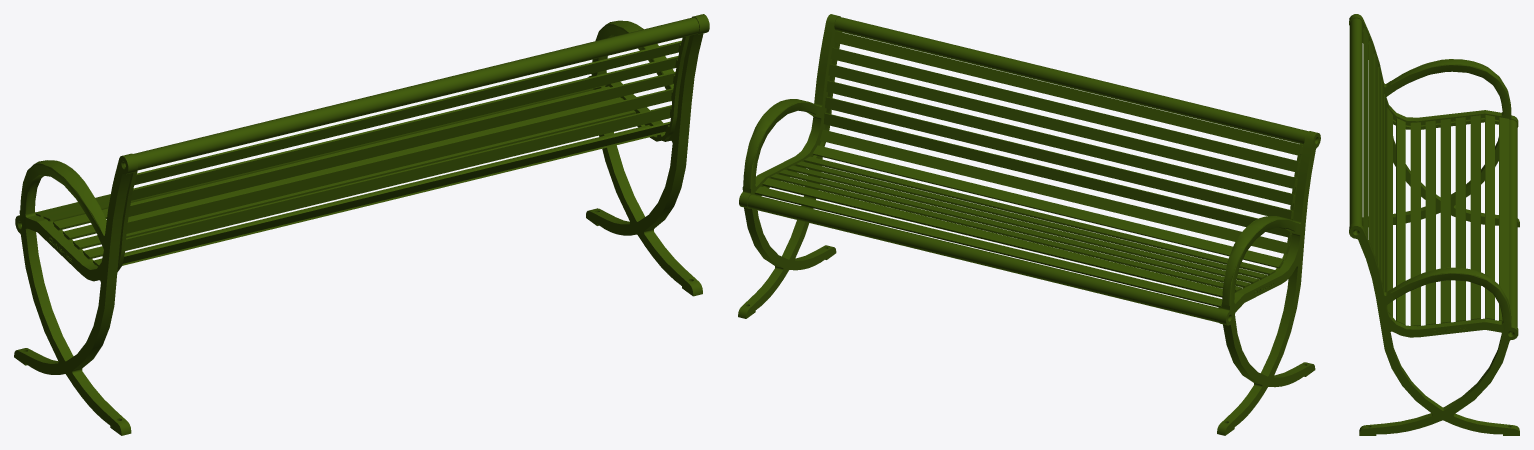
3 views of the same model, side by side, from view 1: azimuth 30°, elevation 25°; view 2: azimuth 150°, elevation 25°; view 3: azimuth 270°, elevation 25° (orthographic). The views are drawn at different scales.
Parts seen in each view (by area): view 1: mesh43_mesh43-geometry, mesh19_mesh19-geometry, mesh11_mesh11-geometry, mesh12_mesh12-geometry, mesh13_mesh13-geometry, mesh14_mesh14-geometry, mesh15_mesh15-geometry, mesh10_mesh10-geometry, mesh6_mesh6-geometry, mesh5_mesh5-geometry, mesh4_mesh4-geometry, mesh8_mesh8-geometry (+5 smaller); view 2: mesh43_mesh43-geometry, mesh18_mesh18-geometry, mesh19_mesh19-geometry, mesh15_mesh15-geometry, mesh14_mesh14-geometry, mesh16_mesh16-geometry, mesh13_mesh13-geometry, mesh12_mesh12-geometry, mesh10_mesh10-geometry, mesh11_mesh11-geometry, mesh9_mesh9-geometry, mesh3_mesh3-geometry (+6 smaller); view 3: mesh43_mesh43-geometry, mesh19_mesh19-geometry, mesh7_mesh7-geometry, mesh6_mesh6-geometry, mesh5_mesh5-geometry, mesh8_mesh8-geometry, mesh4_mesh4-geometry, mesh3_mesh3-geometry, mesh9_mesh9-geometry, mesh17_mesh17-geometry, mesh18_mesh18-geometry, mesh10_mesh10-geometry (+7 smaller).
Part boxes in pixels (x1=…): mesh43_mesh43-geometry: x1=14, y1=14, x2=709, y2=435; mesh19_mesh19-geometry: x1=133, y1=17, x2=699, y2=170; mesh11_mesh11-geometry: x1=125, y1=105, x2=671, y2=250; mesh12_mesh12-geometry: x1=126, y1=88, x2=673, y2=233; mesh13_mesh13-geometry: x1=128, y1=71, x2=675, y2=216; mesh14_mesh14-geometry: x1=131, y1=55, x2=678, y2=200; mesh15_mesh15-geometry: x1=134, y1=40, x2=681, y2=185; mesh10_mesh10-geometry: x1=123, y1=121, x2=670, y2=263; mesh6_mesh6-geometry: x1=73, y1=110, x2=635, y2=249; mesh5_mesh5-geometry: x1=63, y1=97, x2=623, y2=239; mesh4_mesh4-geometry: x1=53, y1=86, x2=609, y2=229; mesh8_mesh8-geometry: x1=93, y1=125, x2=650, y2=266; mesh43_mesh43-geometry: x1=738, y1=14, x2=1320, y2=435; mesh18_mesh18-geometry: x1=747, y1=194, x2=1221, y2=322; mesh19_mesh19-geometry: x1=834, y1=17, x2=1308, y2=144; mesh15_mesh15-geometry: x1=830, y1=47, x2=1298, y2=172; mesh14_mesh14-geometry: x1=828, y1=64, x2=1296, y2=188; mesh16_mesh16-geometry: x1=833, y1=31, x2=1301, y2=155; mesh13_mesh13-geometry: x1=826, y1=80, x2=1294, y2=205; mesh12_mesh12-geometry: x1=825, y1=97, x2=1292, y2=219; mesh10_mesh10-geometry: x1=820, y1=129, x2=1289, y2=254; mesh11_mesh11-geometry: x1=823, y1=113, x2=1290, y2=237; mesh9_mesh9-geometry: x1=812, y1=145, x2=1283, y2=268; mesh3_mesh3-geometry: x1=754, y1=186, x2=1222, y2=307; mesh43_mesh43-geometry: x1=1349, y1=14, x2=1519, y2=435; mesh19_mesh19-geometry: x1=1349, y1=18, x2=1362, y2=231; mesh7_mesh7-geometry: x1=1425, y1=120, x2=1435, y2=325; mesh6_mesh6-geometry: x1=1440, y1=119, x2=1450, y2=323; mesh5_mesh5-geometry: x1=1455, y1=117, x2=1465, y2=321; mesh8_mesh8-geometry: x1=1410, y1=122, x2=1420, y2=326; mesh4_mesh4-geometry: x1=1470, y1=115, x2=1480, y2=319; mesh3_mesh3-geometry: x1=1499, y1=117, x2=1509, y2=320; mesh9_mesh9-geometry: x1=1396, y1=118, x2=1405, y2=324; mesh17_mesh17-geometry: x1=1485, y1=115, x2=1494, y2=319; mesh18_mesh18-geometry: x1=1509, y1=119, x2=1517, y2=332; mesh10_mesh10-geometry: x1=1386, y1=107, x2=1392, y2=316.
Size of the model in its own units: 0.8696 by 0.3975 by 0.293.
